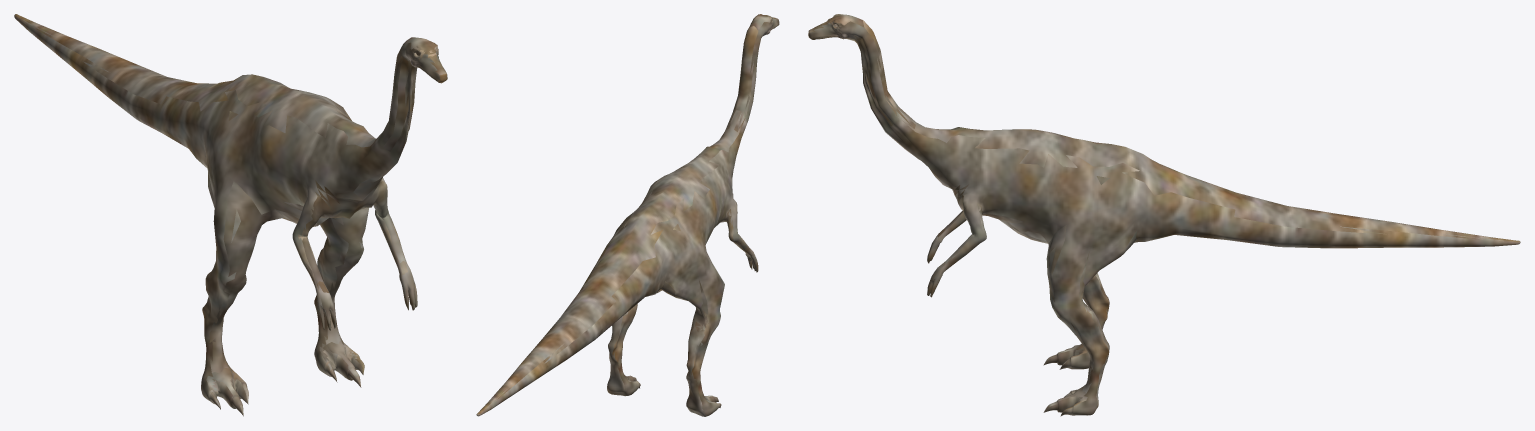
File: dino2.obj
3 renders of one model, left to right at view 1: azimuth 30°, elevation 25°; view 2: azimuth 150°, elevation 25°; view 3: azimuth 270°, elevation 25°, orthographic. The views are drawn at different scales.
Parts seen in each view (by area): view 1: gal_body; view 2: gal_body; view 3: gal_body.
Boxes of the visible parts, left/top/right/bottom form: gal_body: left=14, top=14, right=447, bottom=416; gal_body: left=476, top=14, right=779, bottom=416; gal_body: left=808, top=14, right=1520, bottom=416.
Bounding box in the file's own units: 0.3773 × 1.07 × 1.84.
1 material, 1 textured.
